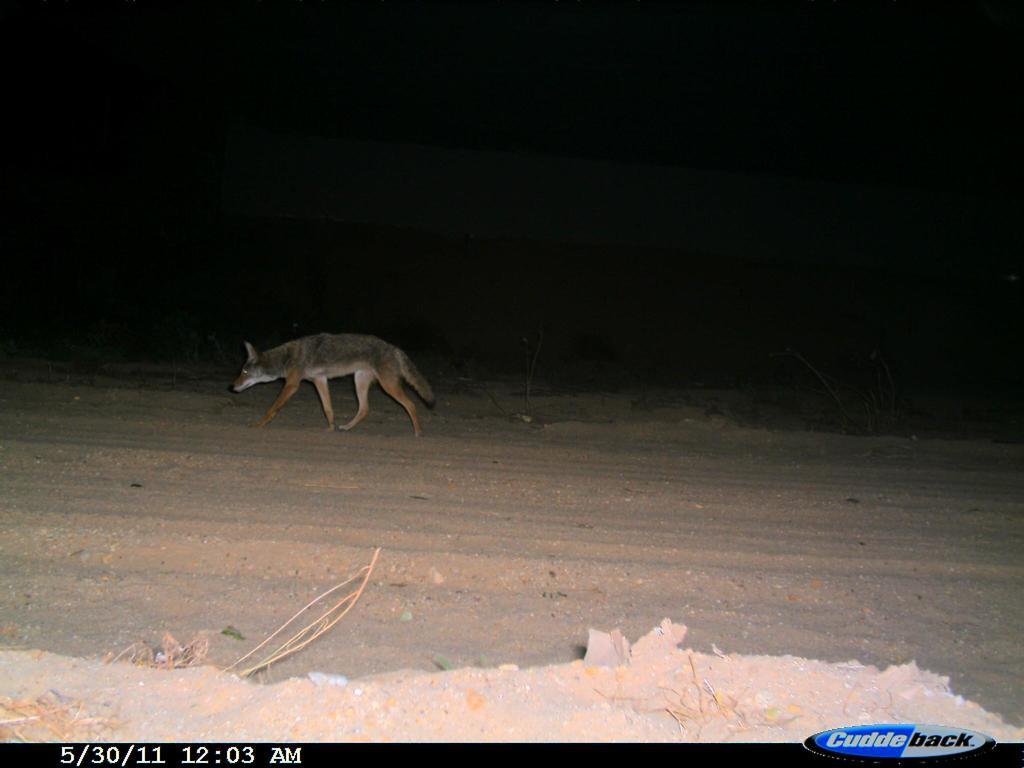coyote: (212, 329, 447, 449)
